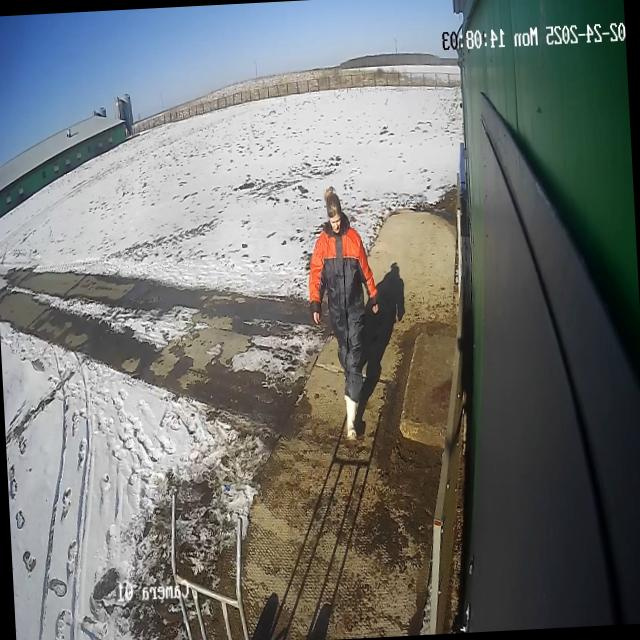Red uniform: (309, 222, 377, 409)
